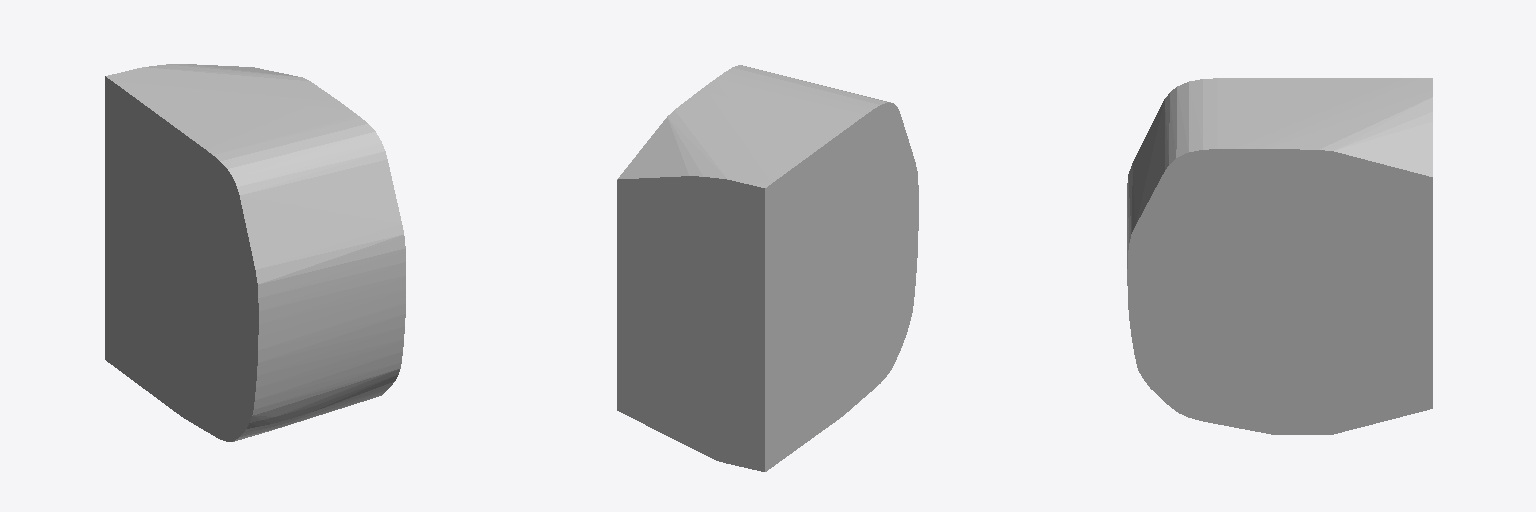
The model's file is Multimeter_collision_2.obj.
The picture shows the model from 3 angles: view 1: azimuth 30°, elevation 25°; view 2: azimuth 150°, elevation 25°; view 3: azimuth 270°, elevation 25°; orthographic projection.
Bounding box in the file's own units: 16.73 × 30.94 × 30.02.